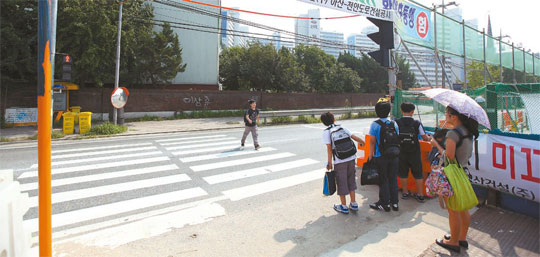traffic_light: (63, 54, 72, 74)
